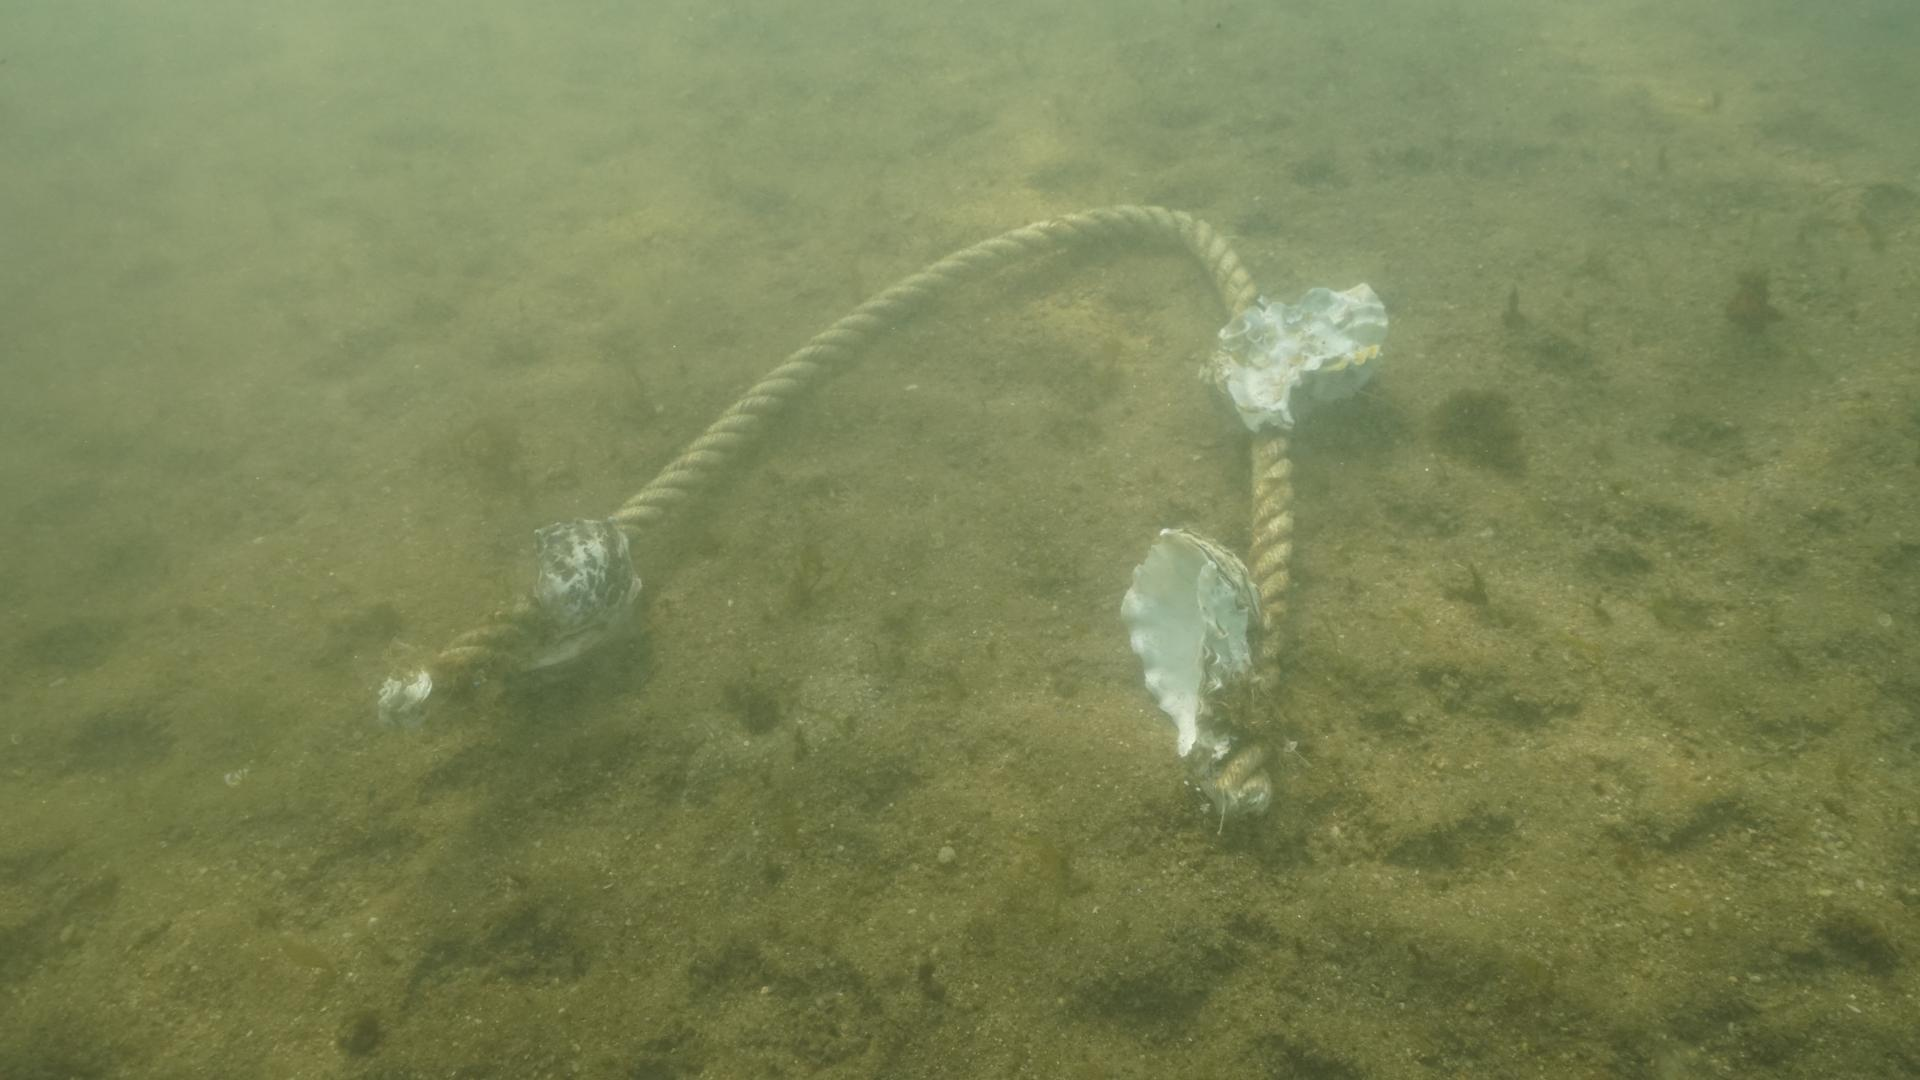rope: (381, 191, 1304, 727)
